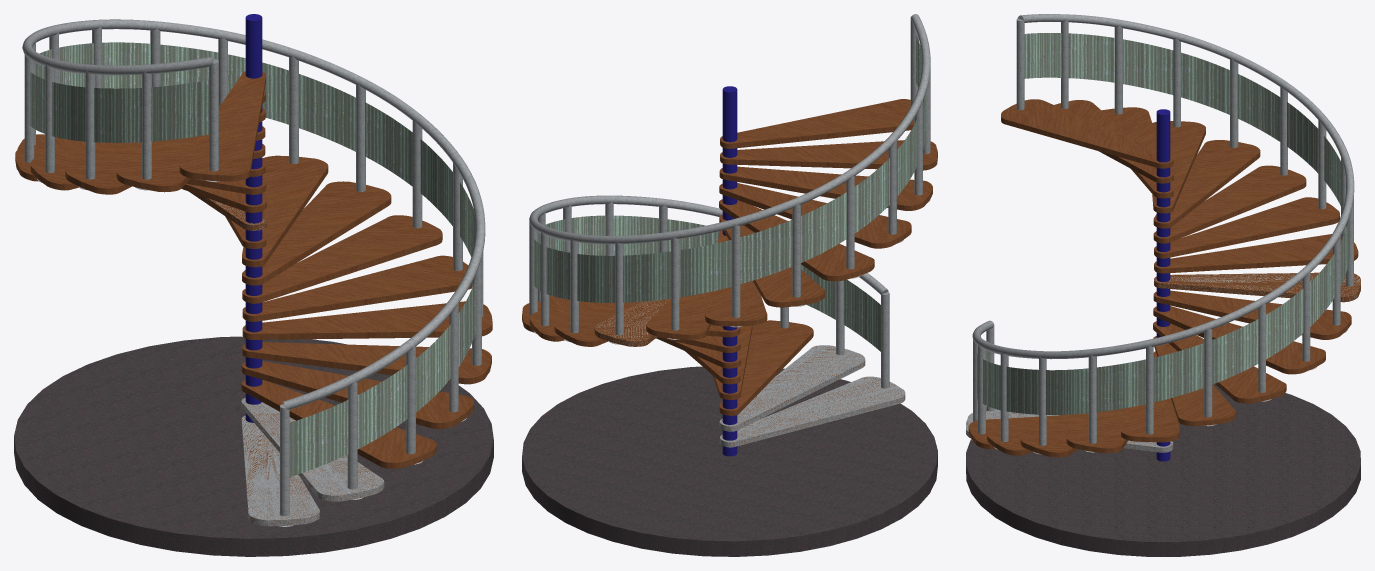
Rendered from starit.fbx.
The picture shows the model from 3 angles, left to right: view 1: azimuth 30°, elevation 25°; view 2: azimuth 150°, elevation 25°; view 3: azimuth 270°, elevation 25°; orthographic projection. The views are drawn at different scales.
Visible parts, largest first — view 1: Material2.001, Material2.004, Material2.007, Material2.003, Material2.008, Material2.002, Material3.004; view 2: Material2.001, Material2.004, Material2.007, Material2.003, Material2.008, Material2.002, Material3.004; view 3: Material2.004, Material2.001, Material2.007, Material2.008, Material2.003, Material2.002, Material2.006.
Part boxes in pixels (bbox=[...]): Material2.001: bbox=[14, 336, 493, 556]; Material2.004: bbox=[15, 71, 492, 526]; Material2.007: bbox=[30, 42, 475, 476]; Material2.003: bbox=[22, 19, 485, 526]; Material2.008: bbox=[24, 26, 483, 516]; Material2.002: bbox=[245, 14, 262, 422]; Material3.004: bbox=[241, 380, 436, 467]; Material2.001: bbox=[522, 366, 937, 556]; Material2.004: bbox=[522, 99, 937, 446]; Material2.007: bbox=[534, 36, 926, 351]; Material2.003: bbox=[529, 14, 930, 447]; Material2.008: bbox=[529, 17, 930, 388]; Material2.002: bbox=[722, 86, 737, 456]; Material3.004: bbox=[719, 320, 813, 415]; Material2.004: bbox=[966, 99, 1360, 457]; Material2.001: bbox=[966, 384, 1360, 556]; Material2.007: bbox=[976, 33, 1349, 414]; Material2.008: bbox=[973, 18, 1353, 445]; Material2.003: bbox=[966, 14, 1354, 452]; Material2.002: bbox=[1156, 109, 1170, 461]; Material2.006: bbox=[1154, 273, 1360, 301].
Bounding box in the file's own units: 287 × 326 × 287.
